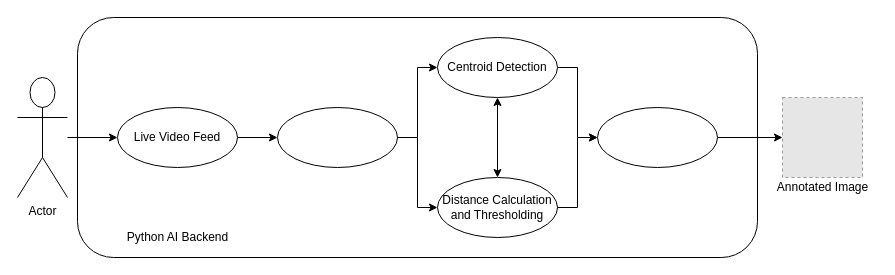
Image size: 895x275. Some labels were removed from this diagram. Grey dashed boxes stand in for pictures. Here are the shapes that lost their labels. From the top down, the centre of each, then its label:
At (x=337, y=137): "Human Detection".
At (x=657, y=137): "Output Frame".
